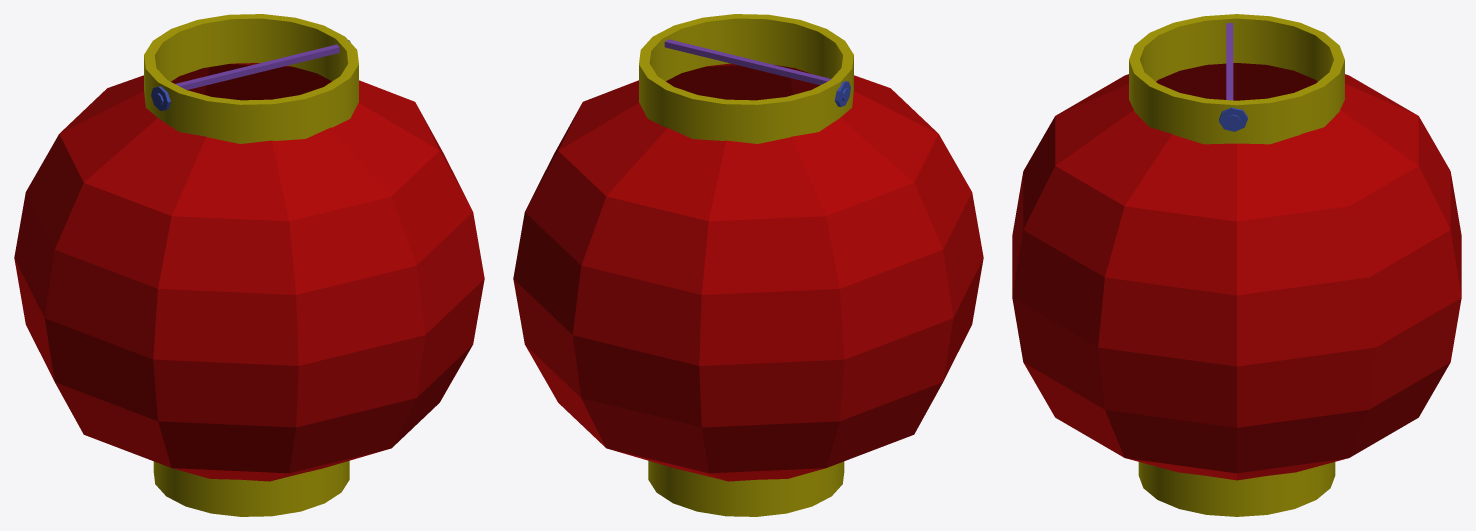
The model's file is Lantern.fbx.
The picture shows the model from 3 angles, left to right: view 1: azimuth 30°, elevation 25°; view 2: azimuth 150°, elevation 25°; view 3: azimuth 270°, elevation 25°; orthographic projection.
Visible parts, largest first — view 1: Lantern; view 2: Lantern; view 3: Lantern.
Part boxes in pixels (x1,y1,x2,y2): Lantern: [14, 14, 484, 516]; Lantern: [513, 14, 983, 516]; Lantern: [1012, 14, 1461, 516].
Bounding box in the file's own units: 7.87 × 7.64 × 7.49.
